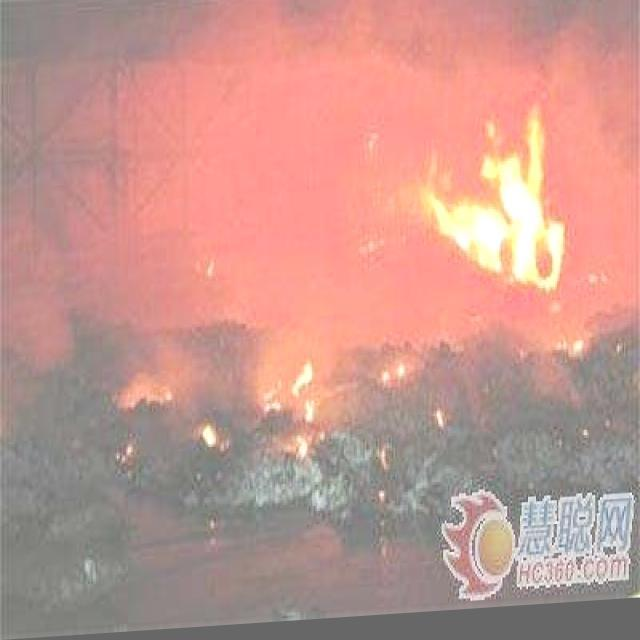Fire: (420, 112, 574, 302), (266, 355, 316, 466), (119, 359, 180, 415), (198, 412, 221, 448)
